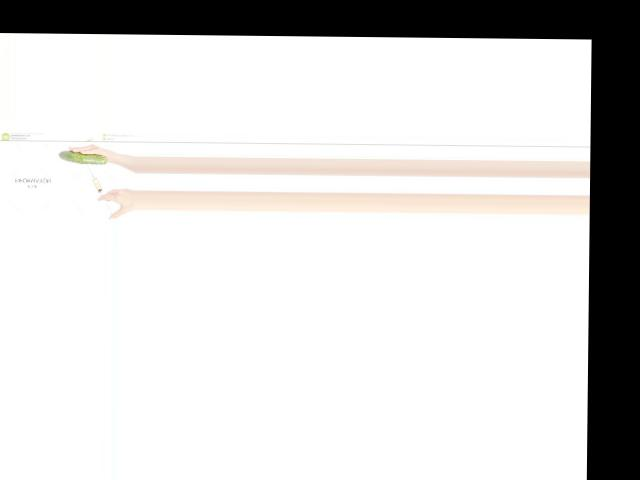cucumber: (59, 150, 107, 164)
